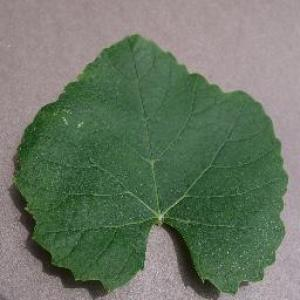Folha: (12, 33, 288, 296)
